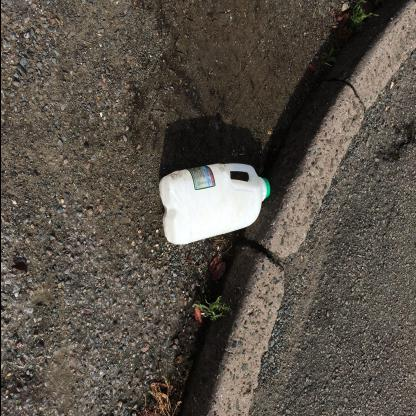plastik: (158, 162, 272, 245)
